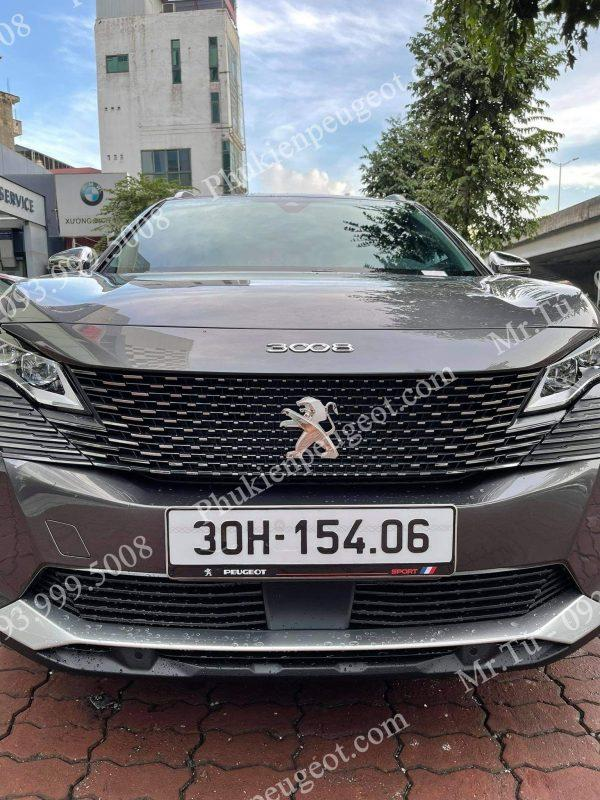numplate: (158, 498, 460, 580)
